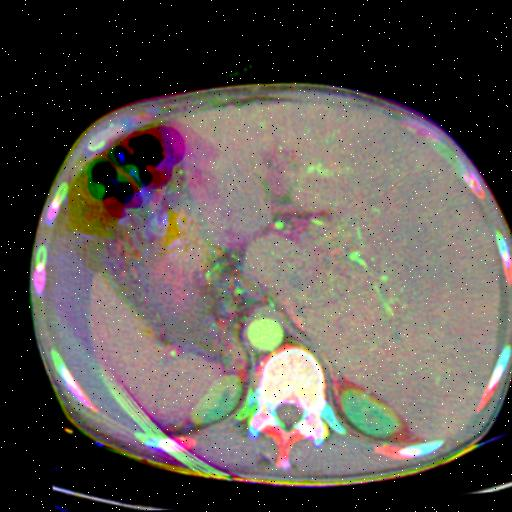Tumor: (262, 147, 293, 206)
